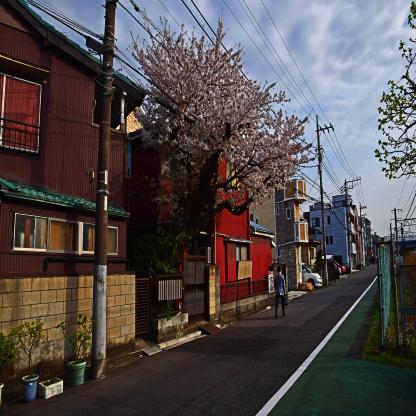Someiyoshino: (135, 30, 309, 199)
